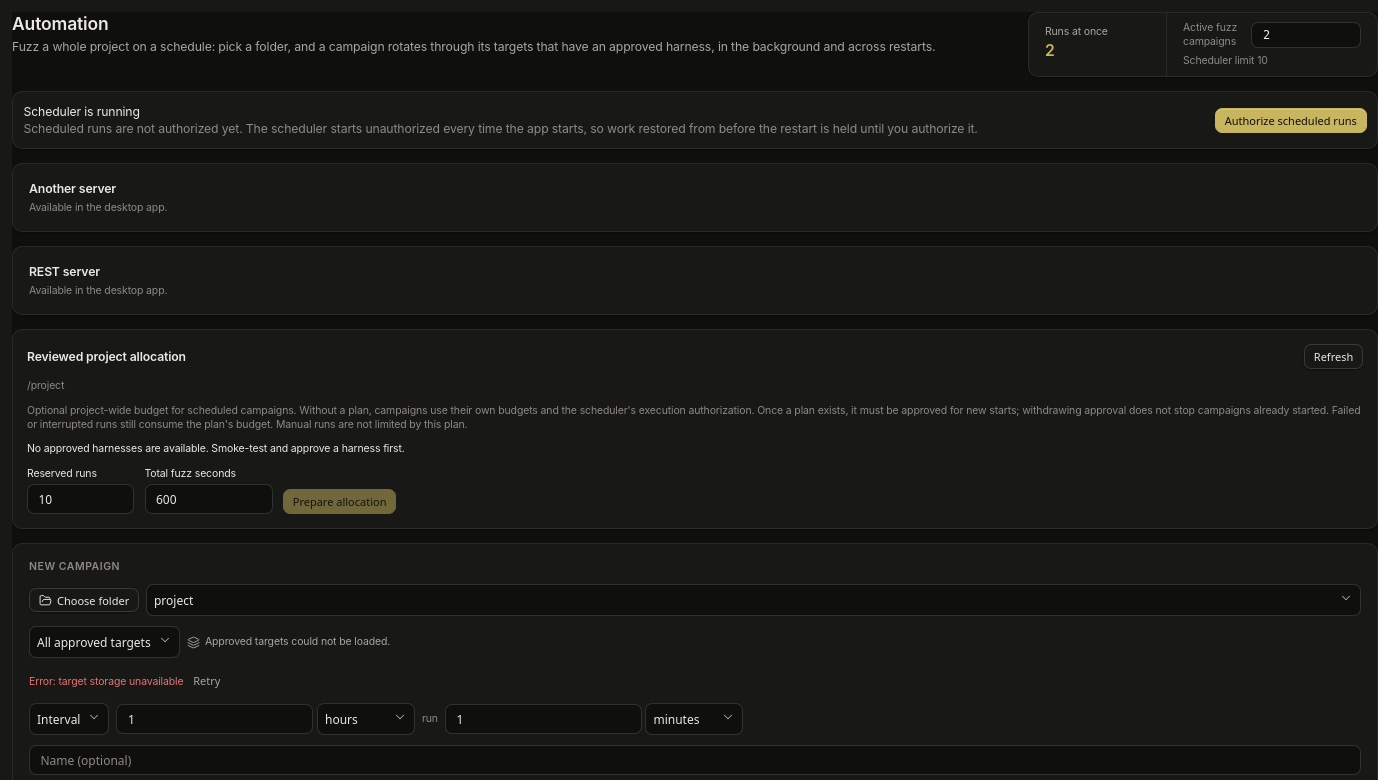
Test: retries a failed approved-target lookup without changing projects
The width and height of the screenshot is (1378, 780).
Click the button "Retry".
click(207, 681)  # box [183, 668, 230, 693]
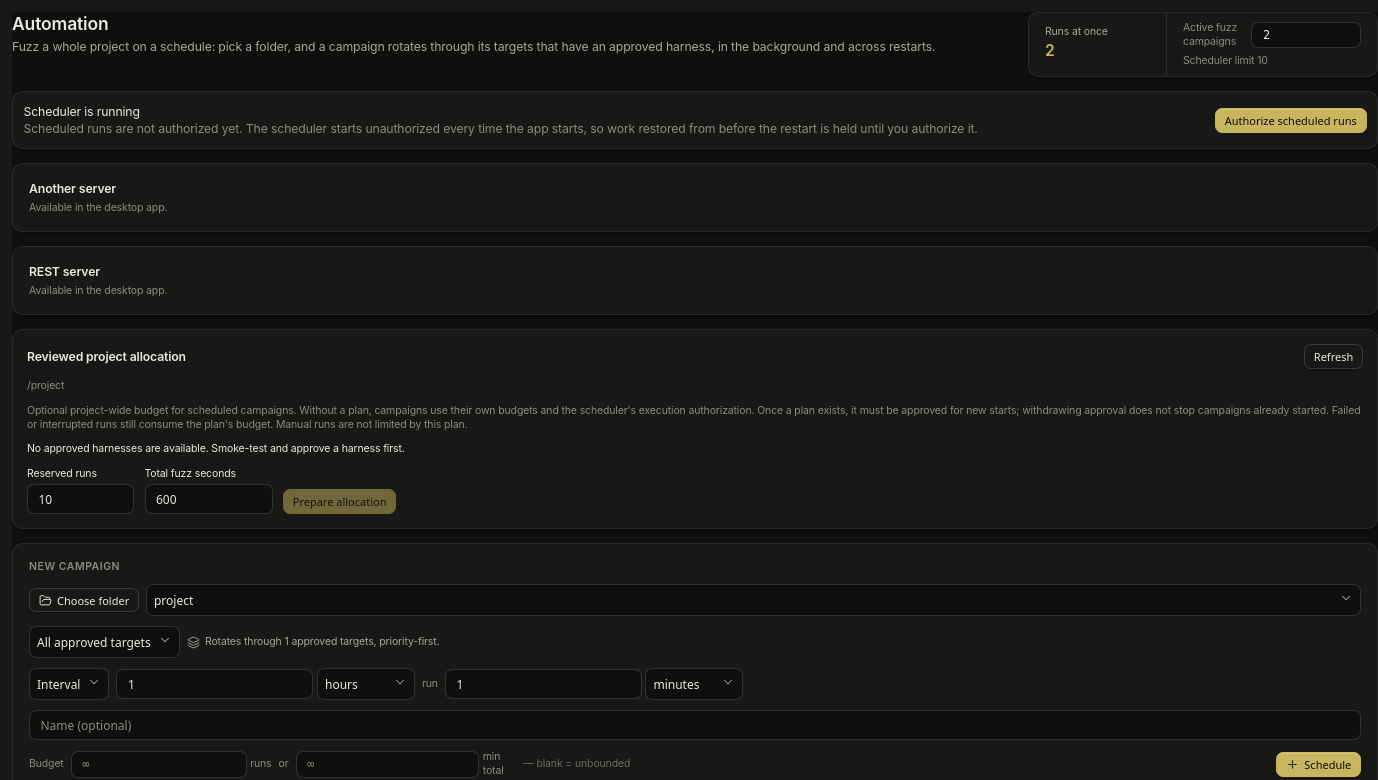
Expected: the text "target storage unavailable" is gone
Expected: the button "Schedule" is enabled, [1276, 752, 1361, 776]
